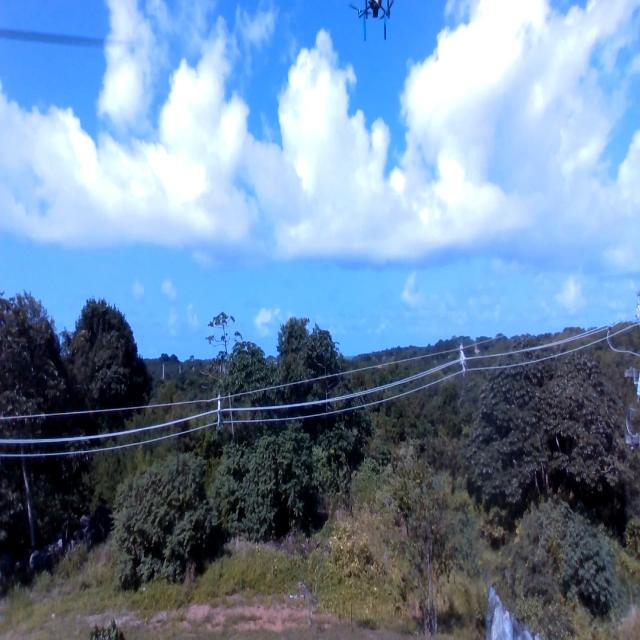-uav-: (352, 0, 398, 51)
